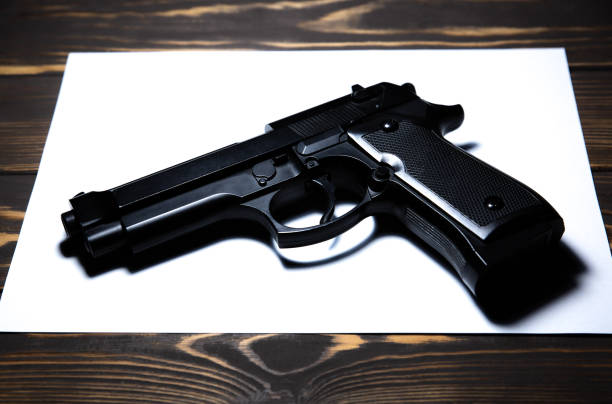gun: (57, 77, 568, 309)
